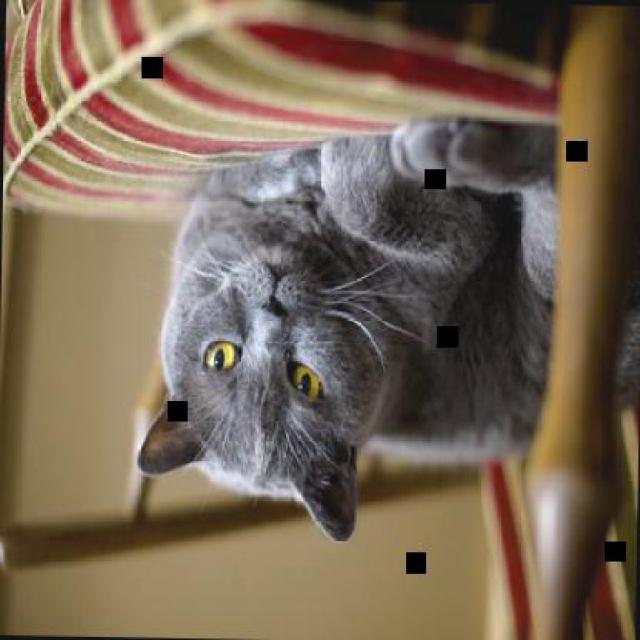cat: (132, 106, 638, 551)
